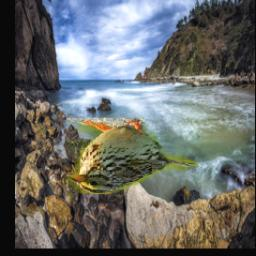Sparrow: (67, 119, 198, 195)
